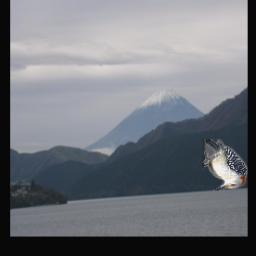Woodpecker: (201, 139, 247, 190)
